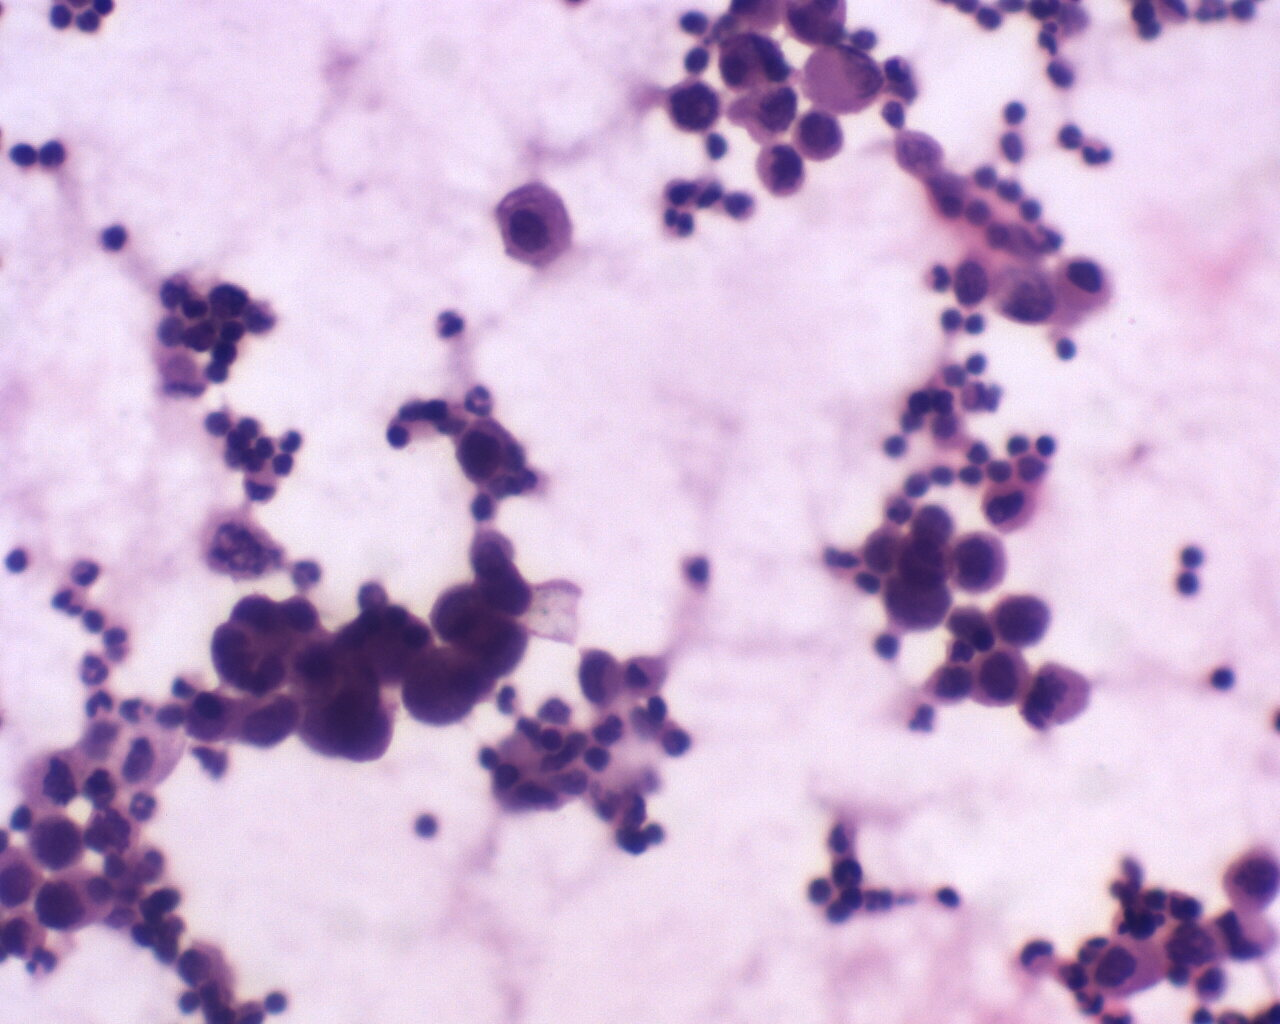ab: (300, 669, 396, 764), (395, 639, 487, 728), (878, 565, 957, 632), (1029, 655, 1093, 736), (456, 413, 525, 487), (947, 523, 1009, 596), (970, 645, 1035, 712), (233, 690, 303, 752), (1218, 846, 1280, 917), (658, 76, 727, 138), (33, 870, 99, 934), (985, 590, 1056, 648), (23, 812, 85, 872), (753, 137, 813, 197), (788, 102, 847, 160)
lymph: (98, 214, 133, 255), (1002, 97, 1029, 127)
meso: (487, 178, 581, 270)
neutro: (79, 650, 115, 689), (460, 382, 501, 416), (126, 789, 161, 822)
